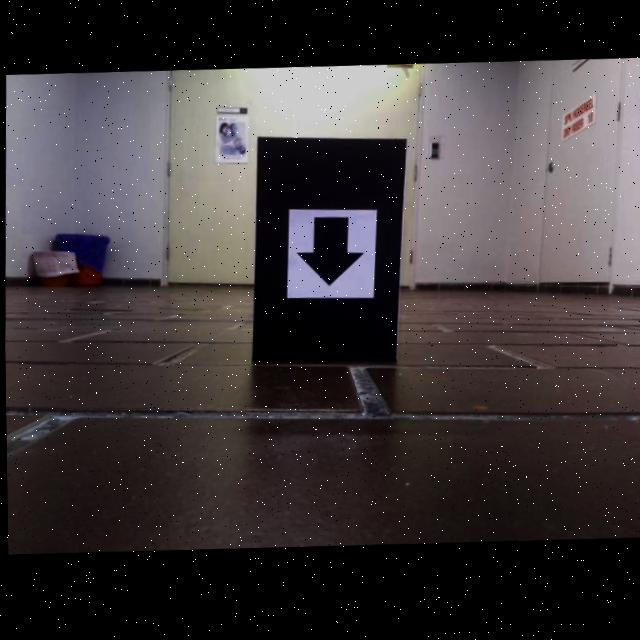DOWN: (295, 219, 364, 291)
